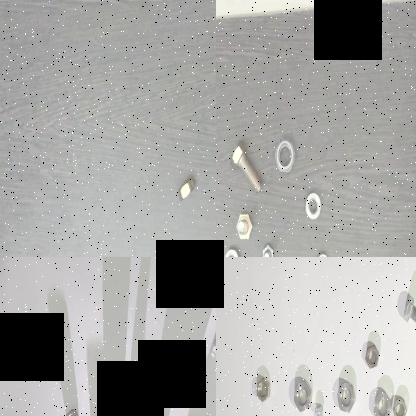Bolts: (226, 134, 262, 198), (399, 285, 416, 339), (232, 210, 252, 244), (257, 238, 275, 257), (209, 320, 216, 368), (313, 399, 328, 416)
NUTS: (271, 132, 295, 176), (288, 376, 312, 410), (176, 168, 196, 206), (335, 380, 356, 416), (301, 187, 322, 221), (370, 387, 393, 416), (252, 370, 270, 404), (362, 340, 380, 371), (172, 374, 188, 402), (390, 393, 409, 416), (59, 400, 80, 416), (222, 243, 239, 257), (97, 407, 119, 416), (144, 406, 162, 416), (312, 249, 332, 257)
